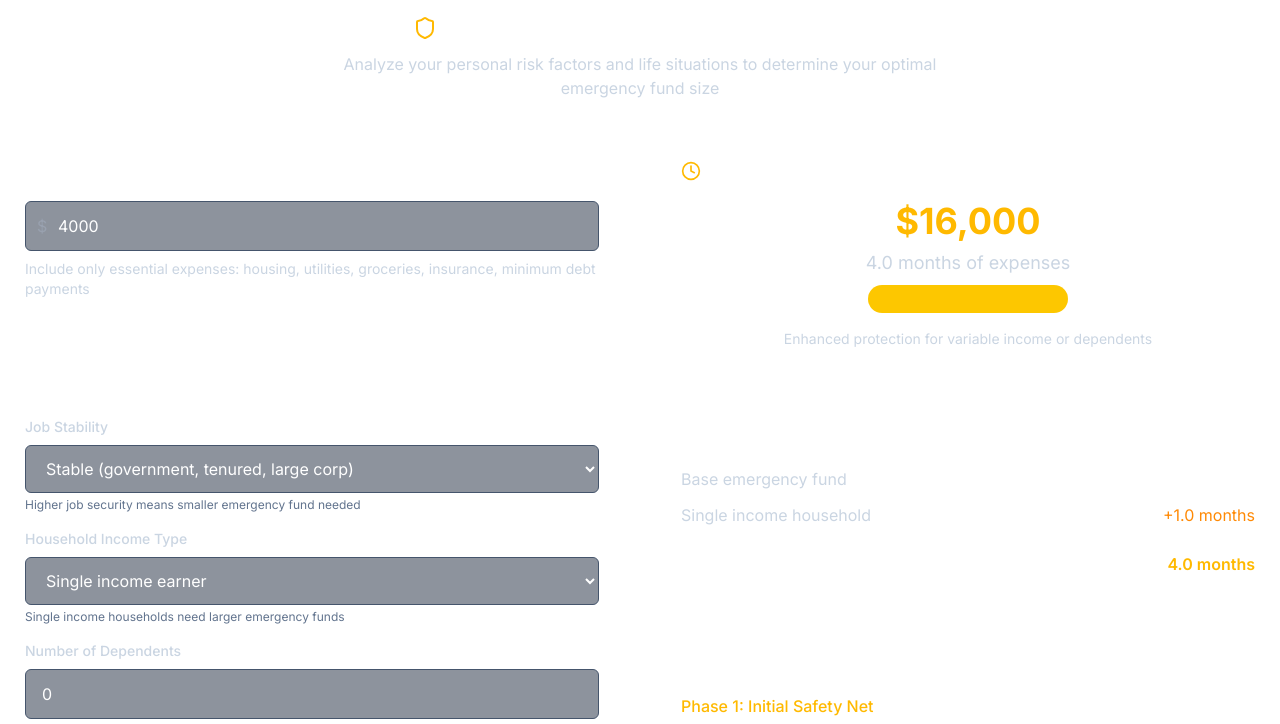
it: EmergencyFundScenarioAnalyzer › updates recommendation when risk factors change
// Change job stability to variable
Step 1. Select "Variable (sales, seasonal, contract)" in the dropdown showing "Stable" → point(312, 469), box top-left (25, 445), bottom-right (599, 493)
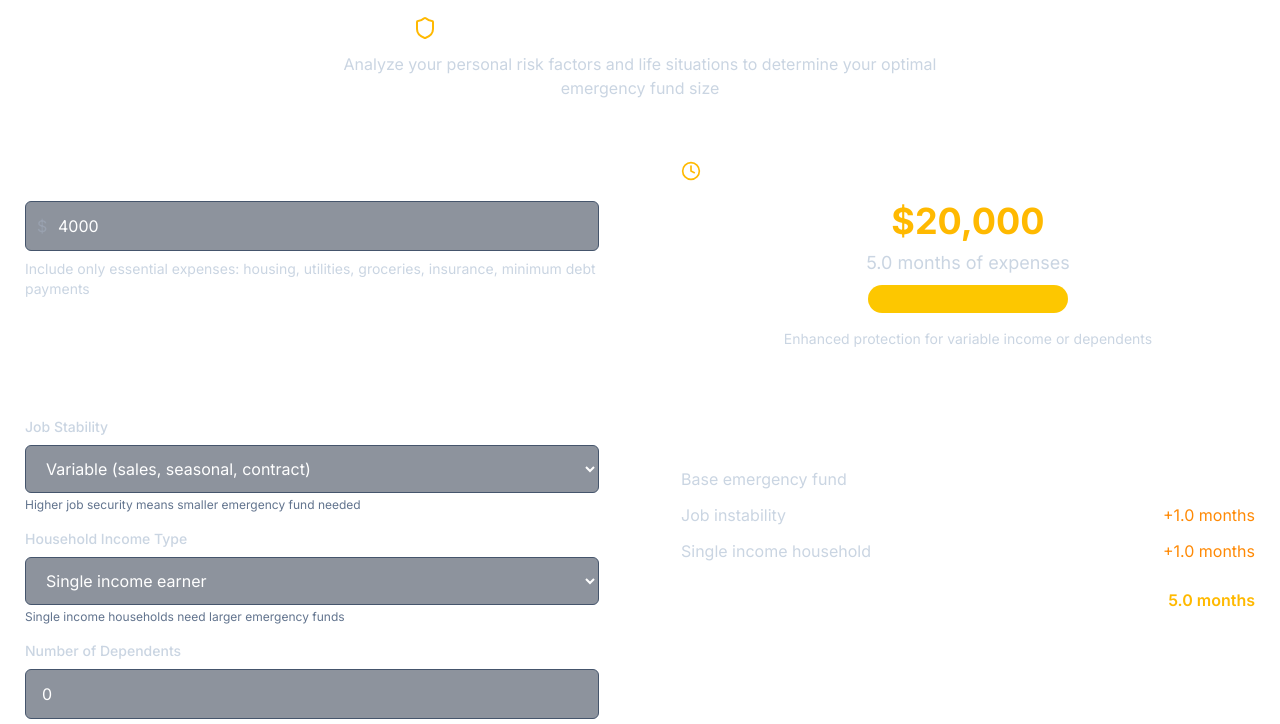
Expected: the text "5.0 months of expenses" is shown, top-left (866, 252), bottom-right (1070, 273)
